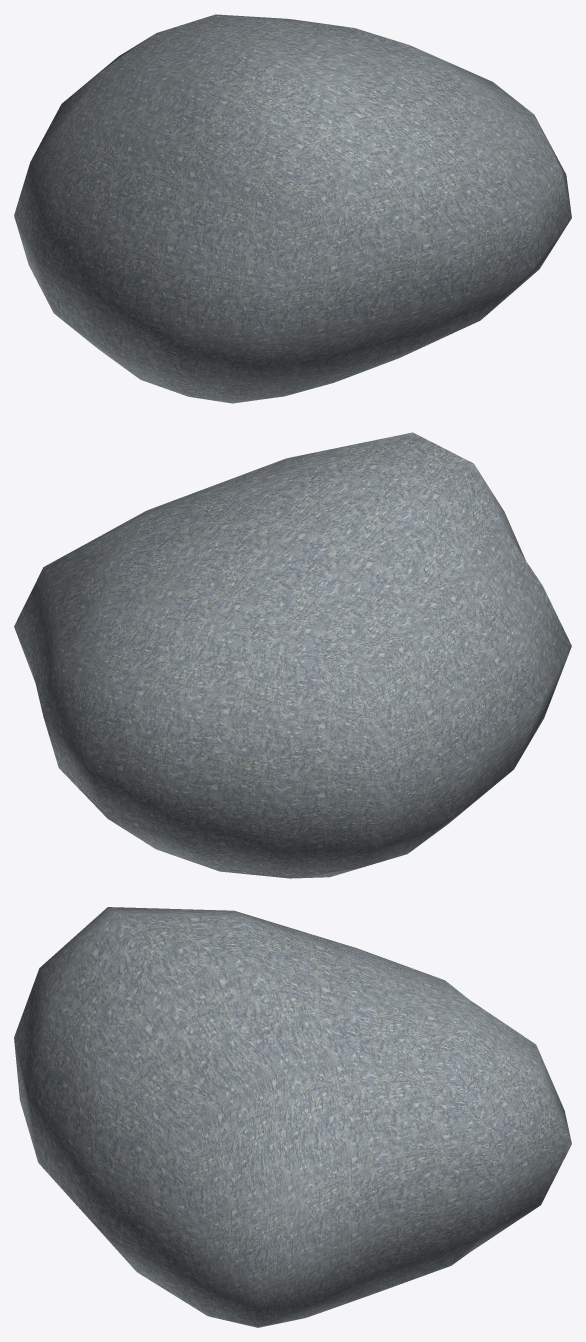
Rendered from Rock2.fbx.
The picture shows the model from 3 angles, top to bottom: view 1: azimuth 30°, elevation 25°; view 2: azimuth 150°, elevation 25°; view 3: azimuth 270°, elevation 25°; orthographic projection.
Visible parts, largest first — view 1: Cube; view 2: Cube; view 3: Cube.
Boxes of the visible parts, bbox=[...] form: Cube: bbox=[14, 14, 571, 403]; Cube: bbox=[14, 432, 571, 878]; Cube: bbox=[14, 907, 571, 1327].
Size of the model in its own units: 509 by 358 by 508.
Materials: 1 (1 with a texture image).
